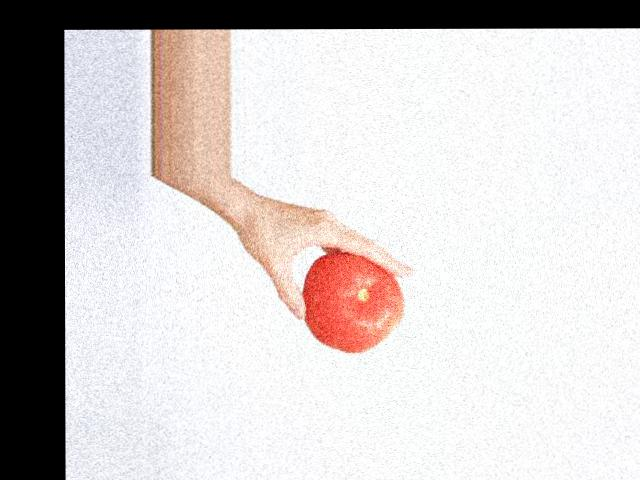tomato: (303, 254, 404, 352)
